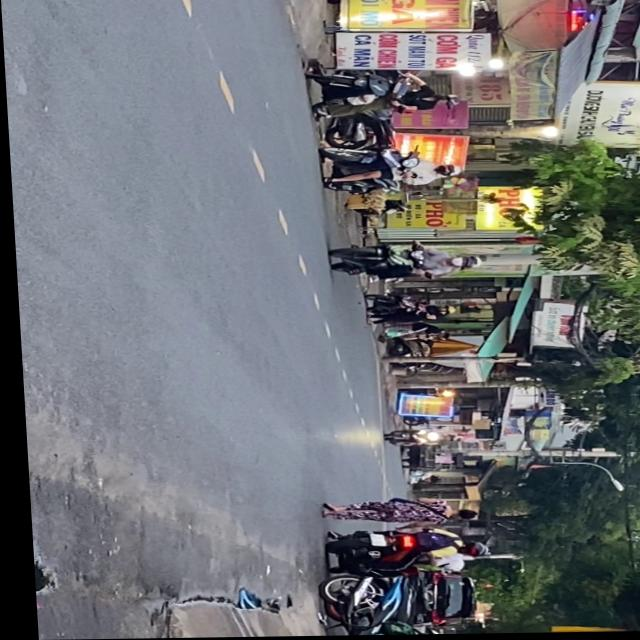helmet: (451, 542, 478, 558), (447, 255, 477, 269), (434, 94, 462, 108), (435, 164, 462, 178)
licenseplate: (302, 64, 464, 120), (316, 527, 483, 575), (316, 146, 463, 196), (323, 240, 479, 283)
nohelmet: (363, 535, 378, 547)
